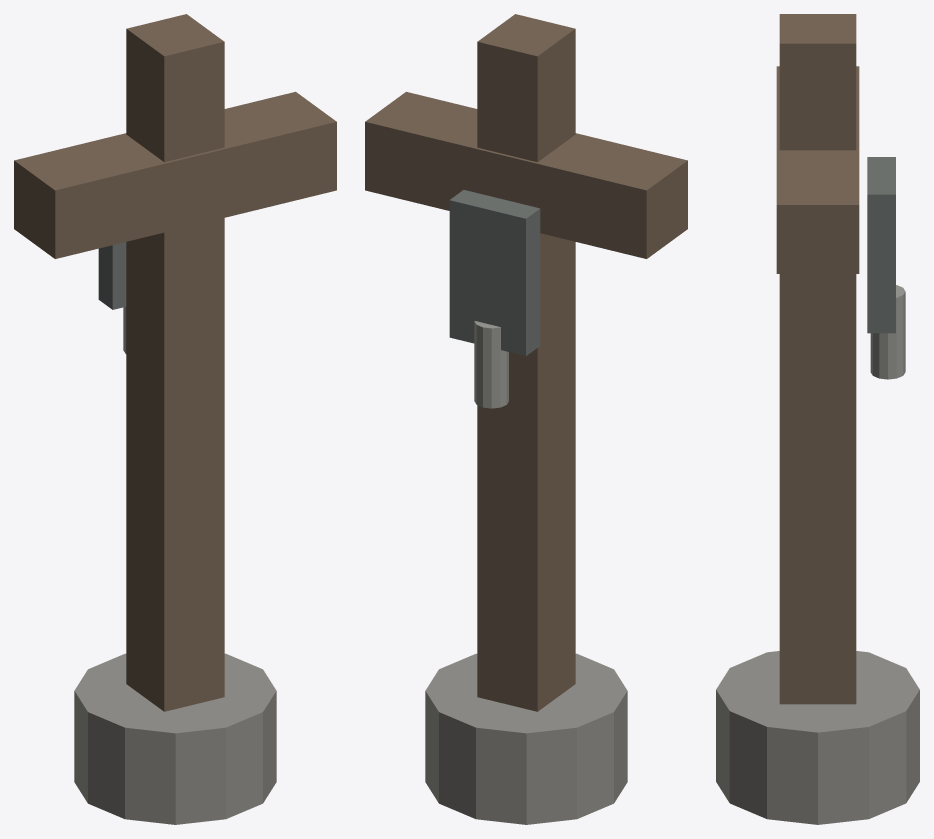
File: wegkreuz.glb
3 renders of one model, left to right at view 1: azimuth 30°, elevation 25°; view 2: azimuth 150°, elevation 25°; view 3: azimuth 270°, elevation 25°, orthographic.
Visible parts, largest first — view 1: part_001, part_002, part_000, part_003; view 2: part_001, part_002, part_000, part_003, part_004; view 3: part_001, part_000, part_002, part_003, part_004.
Part boxes in pixels (box(x1,y1,x2,y2)): part_001: box(126, 14, 224, 711); part_002: box(14, 91, 336, 258); part_000: box(74, 653, 276, 824); part_003: box(98, 242, 126, 309); part_001: box(477, 14, 575, 711); part_002: box(365, 91, 687, 258); part_000: box(425, 653, 627, 824); part_003: box(449, 190, 540, 355); part_004: box(474, 321, 508, 408); part_001: box(779, 14, 856, 704); part_000: box(716, 651, 919, 824); part_002: box(776, 66, 859, 273); part_003: box(867, 157, 895, 333); part_004: box(870, 285, 905, 379).
Bounding box in the file's own units: 1.03 × 2.61 × 0.64.
